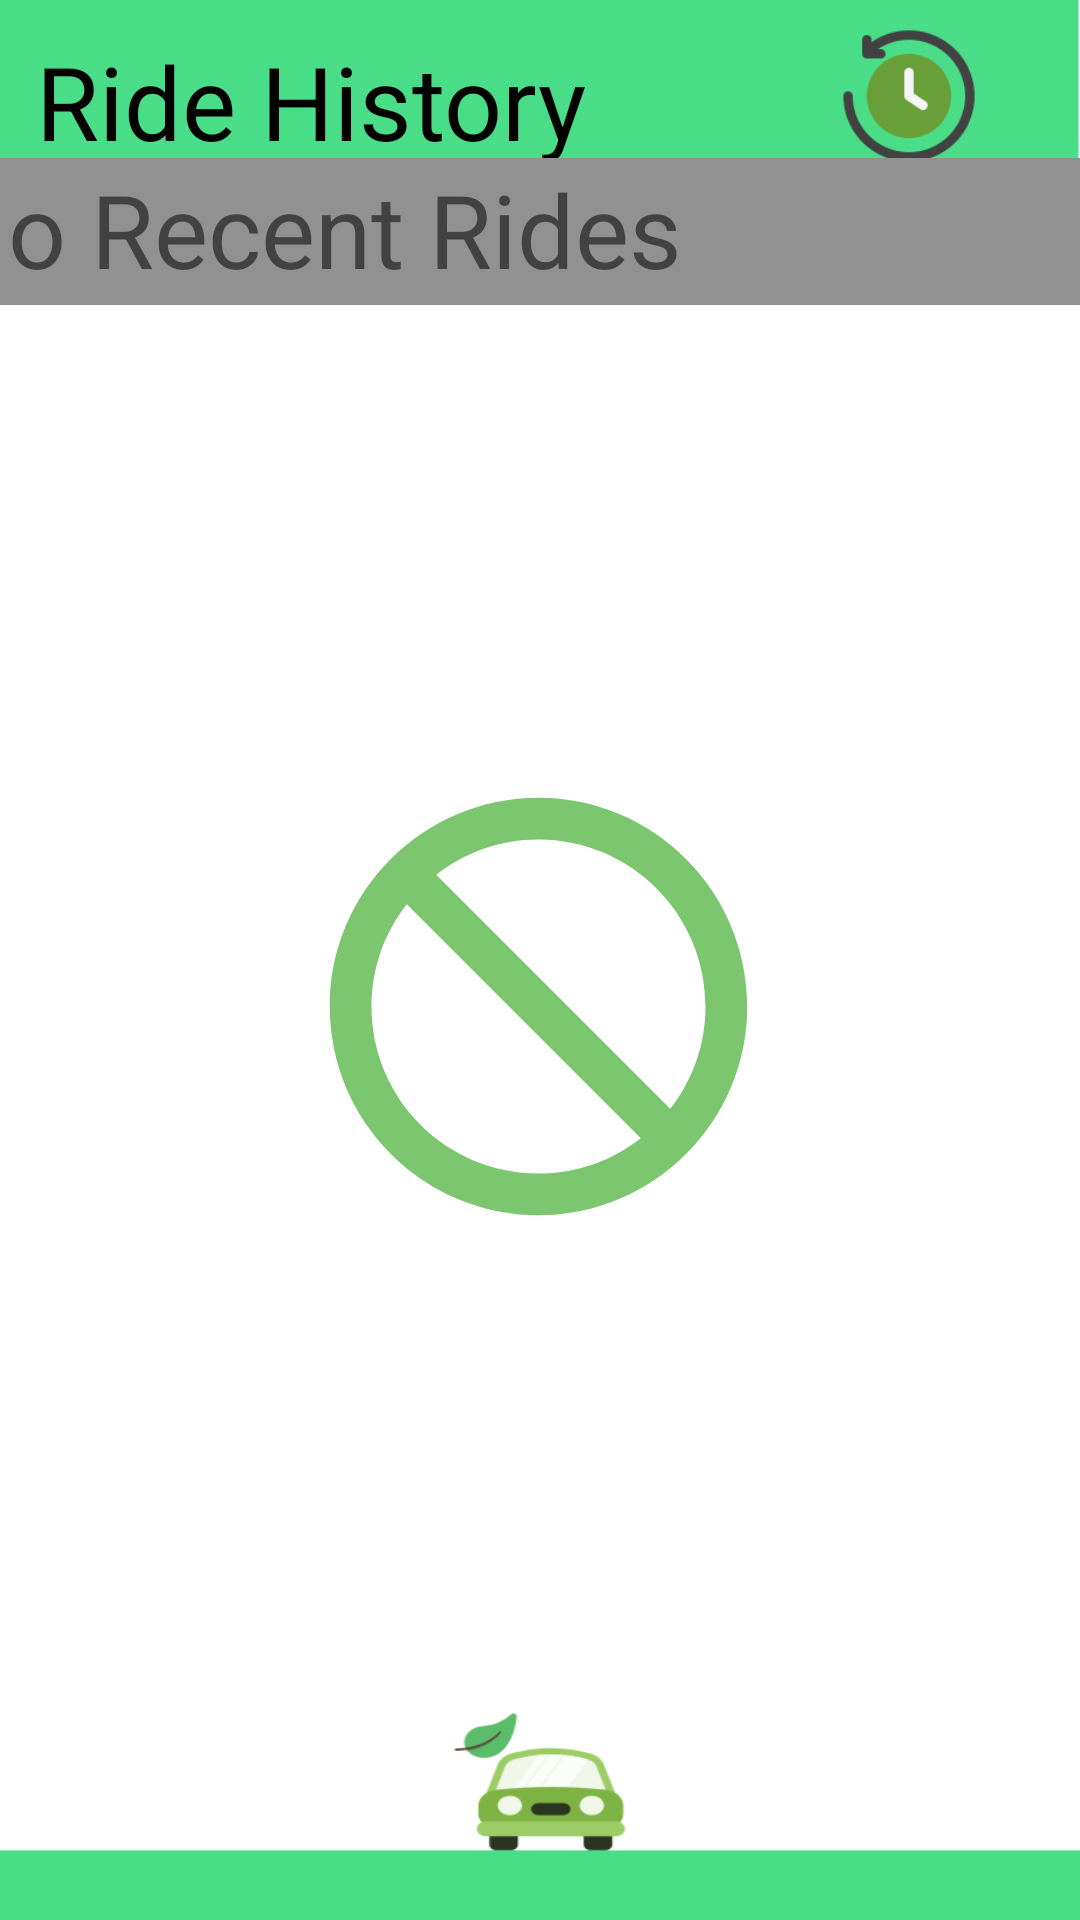

Locate icon controls on the screen. Image size 1080*1920, boxes as (x1, y1, x2, y2).
recentimg: (834, 30, 984, 174)
